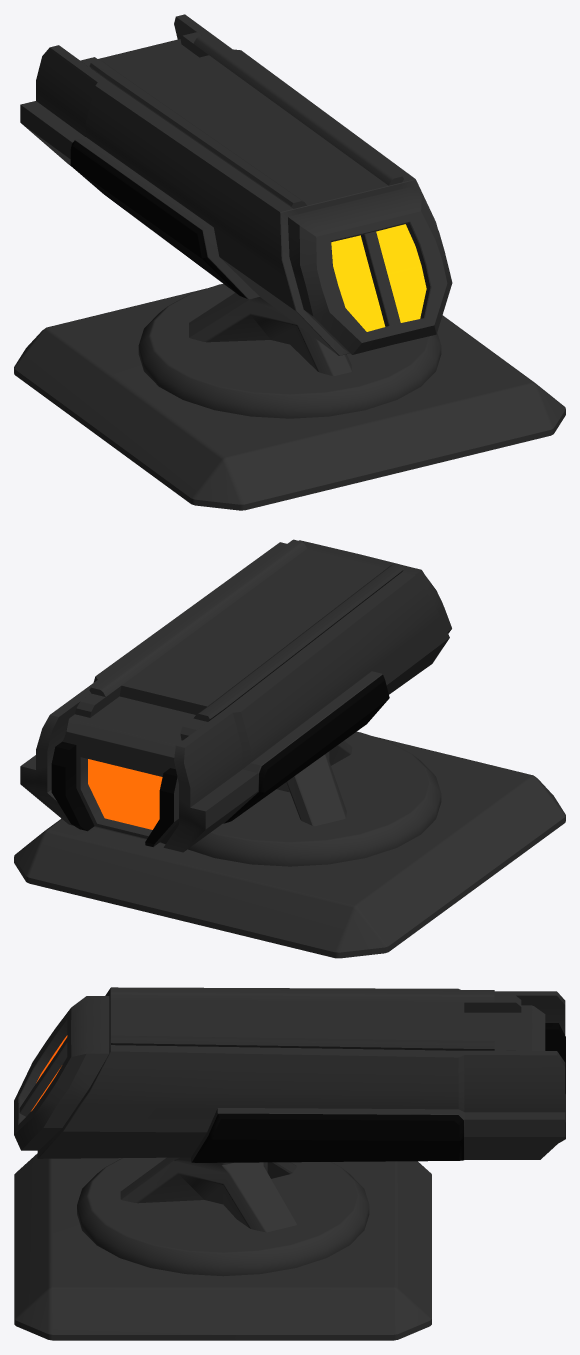
Rendered from thruster.glb.
3 renders of one model, top to bottom at view 1: azimuth 30°, elevation 25°; view 2: azimuth 150°, elevation 25°; view 3: azimuth 270°, elevation 25°, orthographic. The views are drawn at different scales.
Visible parts, largest first — view 1: pCube3, pCube1, pCylinder1, pCylinder2; view 2: pCube3, pCube1, pCylinder1, pCylinder2; view 3: pCube3, pCube1, pCylinder1, pCylinder2.
Part boxes in pixels (box(x1,y1,x2,y2)): pCube3: box(20, 14, 452, 355); pCube1: box(14, 288, 565, 510); pCylinder1: box(138, 284, 441, 418); pCylinder2: box(189, 292, 352, 375); pCube3: box(20, 539, 451, 852); pCube1: box(14, 736, 565, 958); pCylinder1: box(188, 731, 441, 866); pCylinder2: box(276, 741, 352, 826); pCube3: box(14, 987, 565, 1162); pCube1: box(14, 1153, 431, 1340); pCylinder1: box(77, 1157, 369, 1276); pCylinder2: box(120, 1157, 296, 1232).
Size of the model in its own units: 1 by 0.63 by 1.32.
